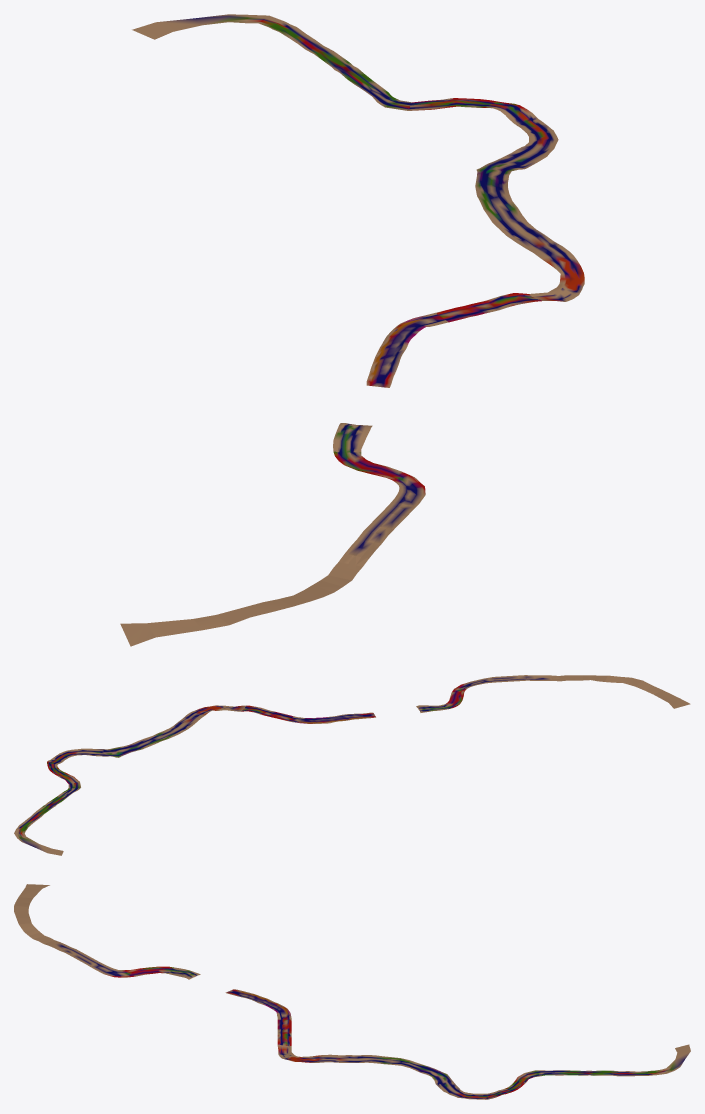
Rendered from codm_jungle_roads.fbx.
3 renders of one model, top to bottom at view 1: azimuth 30°, elevation 25°; view 2: azimuth 150°, elevation 25°; view 3: azimuth 270°, elevation 25°, orthographic. The views are drawn at different scales.
Parts seen in each view (by area): view 1: zm_sumpf_geo_road_01, zm_sumpf_geo_road_outside_01, zm_sumpf_geo_road_outside_02, zm_sumpf_geo_road_02, zm_sumpf_geo_road_outside_03; view 2: zm_sumpf_geo_road_01, zm_sumpf_geo_road_outside_01, zm_sumpf_geo_road_outside_02, zm_sumpf_geo_road_02, zm_sumpf_geo_road_outside_03; view 3: zm_sumpf_geo_road_01, zm_sumpf_geo_road_outside_01, zm_sumpf_geo_road_outside_02, zm_sumpf_geo_road_02, zm_sumpf_geo_road_outside_03.
Boxes of the visible parts, x1,y1,x2,y2 form: zm_sumpf_geo_road_01: [408, 98, 584, 301]; zm_sumpf_geo_road_outside_01: [120, 451, 425, 646]; zm_sumpf_geo_road_outside_02: [132, 14, 411, 110]; zm_sumpf_geo_road_02: [366, 313, 448, 387]; zm_sumpf_geo_road_outside_03: [436, 293, 541, 322]; zm_sumpf_geo_road_01: [47, 705, 246, 784]; zm_sumpf_geo_road_outside_01: [442, 675, 690, 708]; zm_sumpf_geo_road_outside_02: [14, 782, 80, 855]; zm_sumpf_geo_road_02: [288, 712, 375, 723]; zm_sumpf_geo_road_outside_03: [241, 705, 293, 720]; zm_sumpf_geo_road_01: [277, 1044, 533, 1099]; zm_sumpf_geo_road_outside_01: [14, 884, 173, 977]; zm_sumpf_geo_road_outside_02: [524, 1044, 690, 1077]; zm_sumpf_geo_road_02: [225, 989, 291, 1019]; zm_sumpf_geo_road_outside_03: [277, 1019, 291, 1046].
Size of the model in its own units: 14872 by 278 by 19611.
